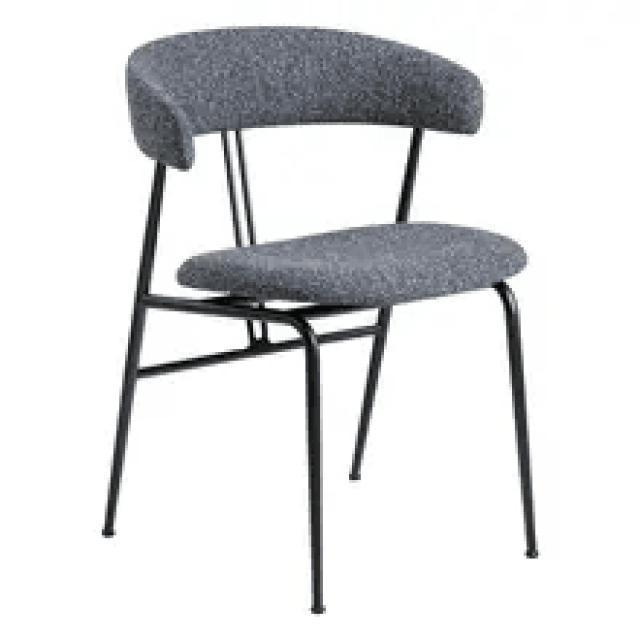chair: (95, 20, 543, 616), (116, 23, 528, 320)
